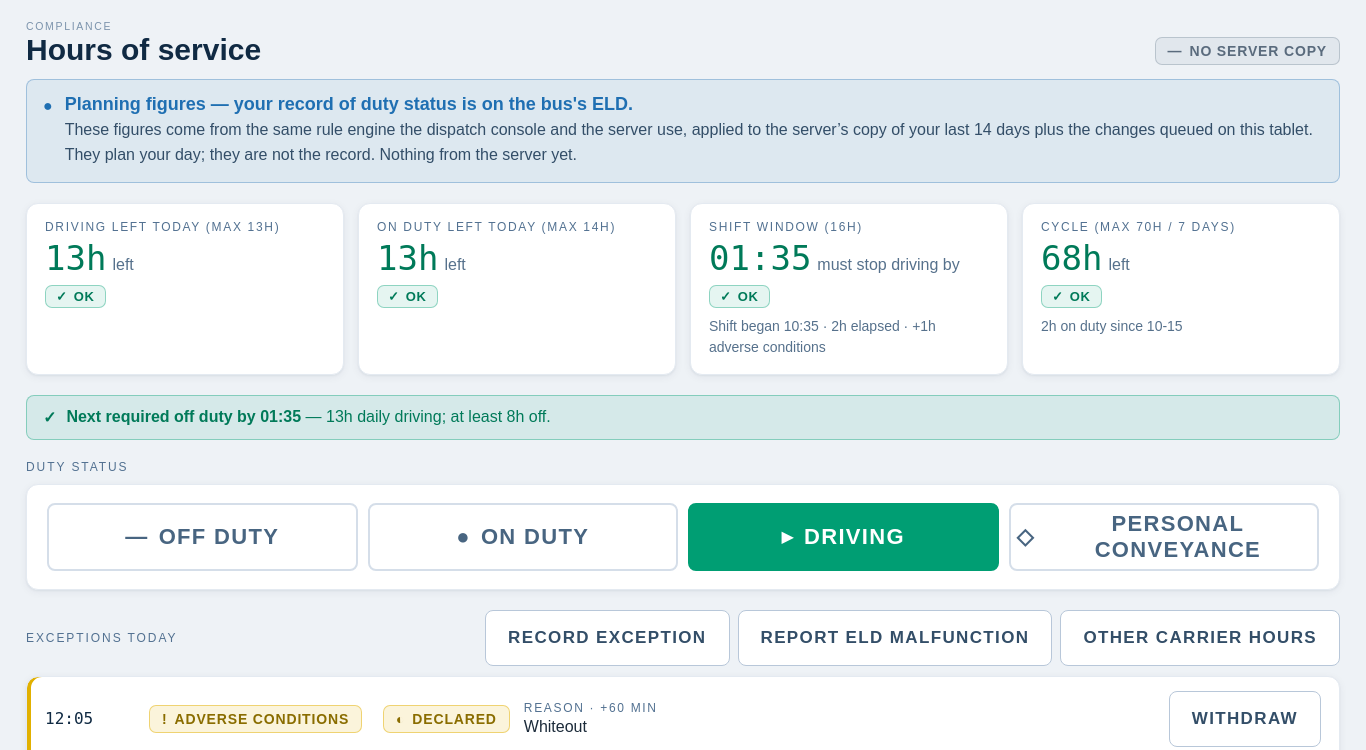
it: exceptions › lists today's exceptions with their status, and WITHDRAW queues a withdrawal while one is Declared
Expected: the text "Declared" is shown, [412, 711, 497, 727]
Click the button "Withdraw" at (1245, 719), box [1169, 691, 1321, 747]
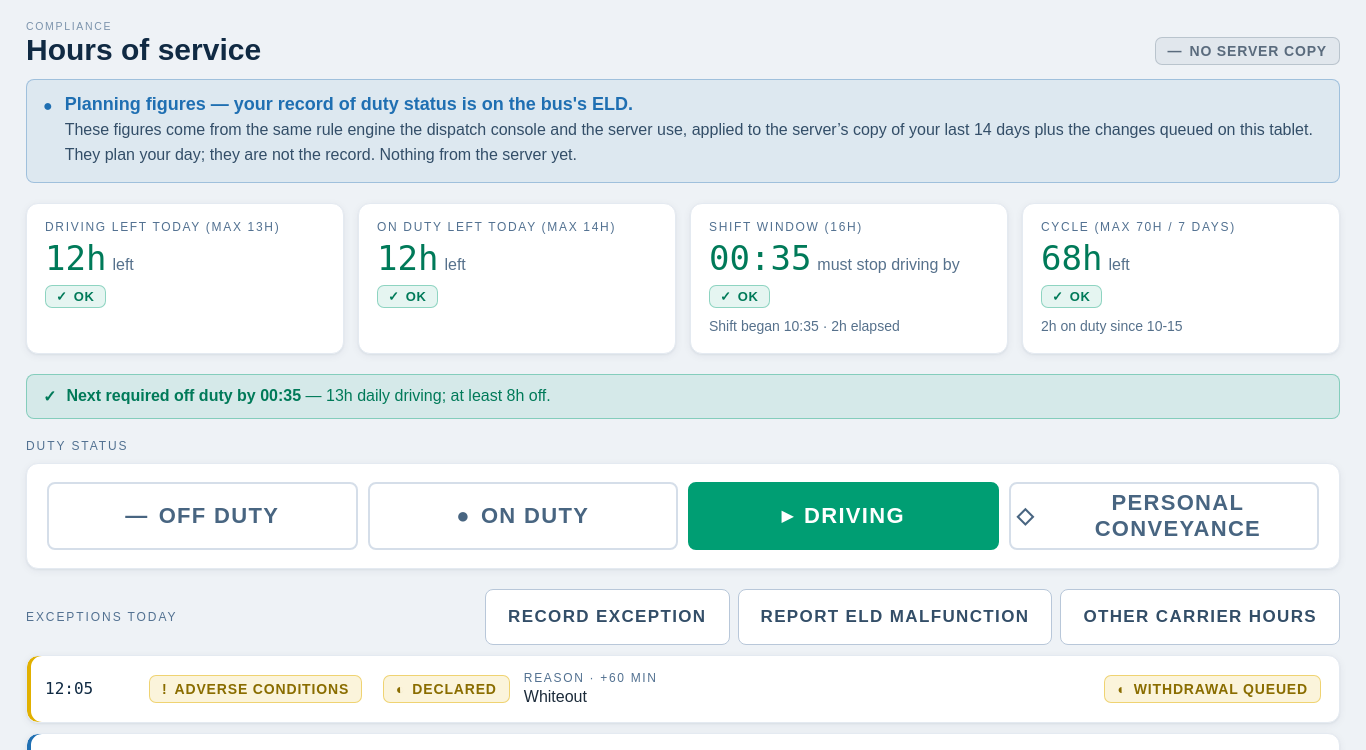
Now the text "Withdrawal queued" is shown, box [1134, 681, 1308, 697]
